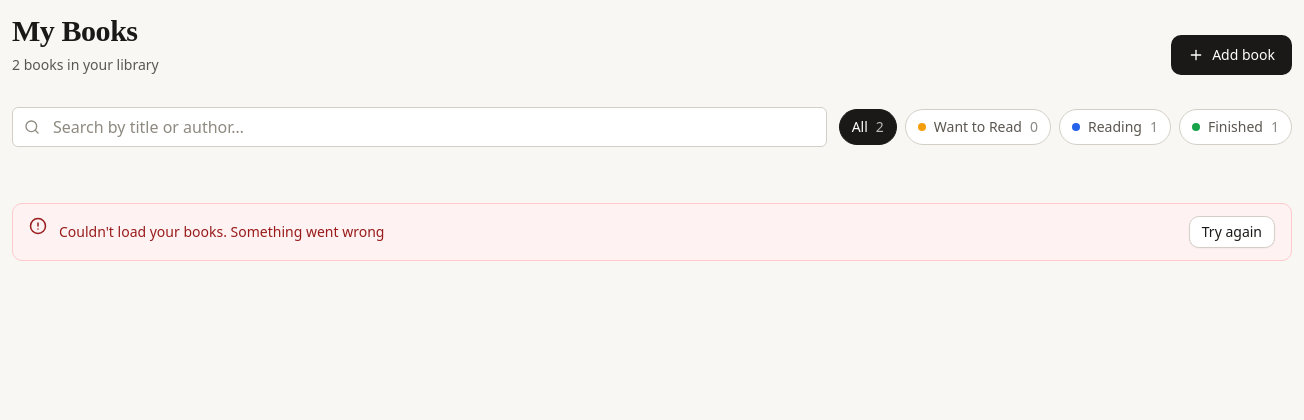
Test: BooksPage › shows an error with a retry button when loading fails
The image size is (1304, 420).
Expected: the message shows "Couldn't load your books", [59, 222, 230, 241]
Click the button "Try again".
click(1232, 232)  # box [1189, 216, 1275, 248]
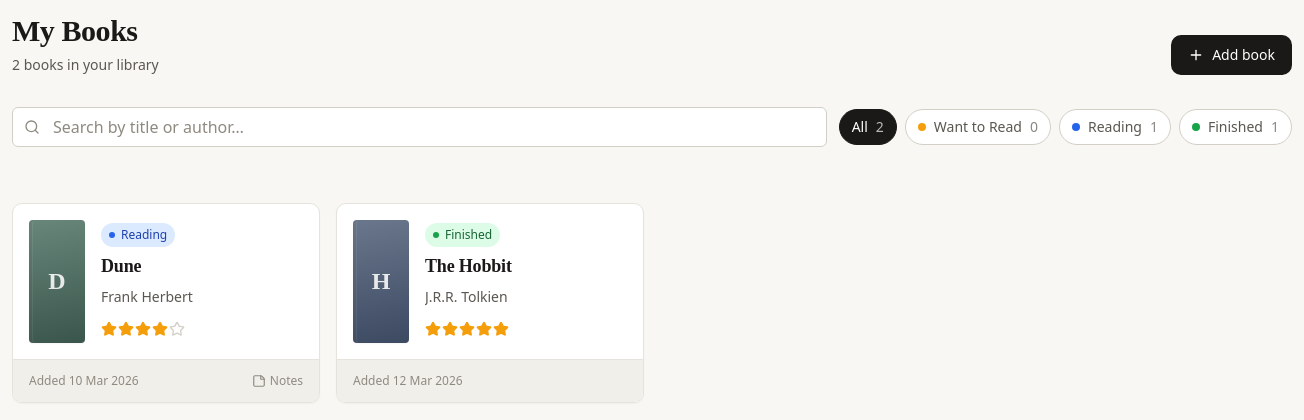
Now the link with aria-label "Dune by Frank Herbert" is shown, box [12, 202, 320, 403]
